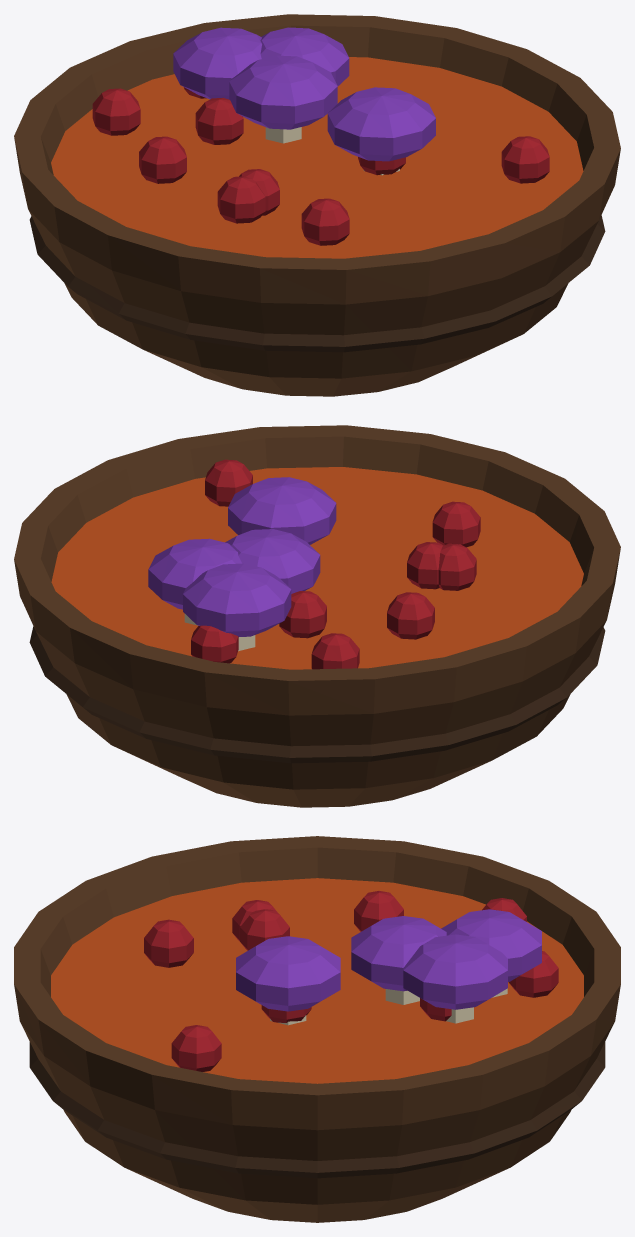
Rendered from VFP_Food_EmberHerbSoup.obj.
3 renders of one model, top to bottom at view 1: azimuth 30°, elevation 25°; view 2: azimuth 150°, elevation 25°; view 3: azimuth 270°, elevation 25°, orthographic.
Visible parts, largest first — view 1: Bowl, Fill, Mush_mush_purple, Berries, Bowl_wood_dark; view 2: Bowl, Fill, Mush_mush_purple, Berries, Bowl_wood_dark; view 3: Bowl, Fill, Mush_mush_purple, Bowl_wood_dark, Berries, Mush.
Boxes of the visible parts, bbox=[...] form: Bowl: bbox=[14, 14, 620, 396]; Fill: bbox=[51, 57, 583, 258]; Mush_mush_purple: bbox=[173, 27, 435, 161]; Berries: bbox=[92, 87, 549, 245]; Bowl_wood_dark: bbox=[29, 215, 605, 352]; Bowl: bbox=[14, 425, 620, 807]; Fill: bbox=[51, 467, 583, 669]; Mush_mush_purple: bbox=[148, 477, 336, 636]; Berries: bbox=[191, 459, 480, 669]; Bowl_wood_dark: bbox=[29, 626, 605, 763]; Bowl: bbox=[14, 836, 620, 1222]; Fill: bbox=[51, 878, 583, 1083]; Mush_mush_purple: bbox=[236, 909, 541, 1011]; Bowl_wood_dark: bbox=[29, 1042, 605, 1178]; Berries: bbox=[144, 891, 558, 1071]; Mush: bbox=[270, 988, 507, 1025].
Size of the model in its own units: 0.3264 by 0.1365 by 0.323.
